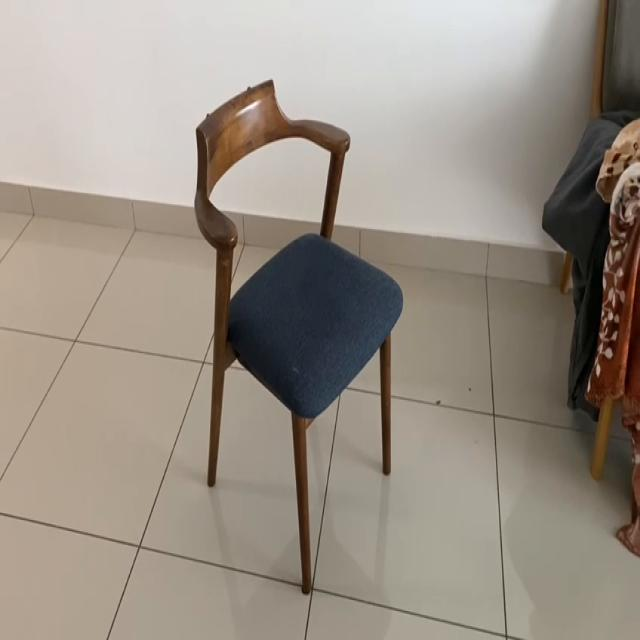Chair: (178, 49, 407, 598)
